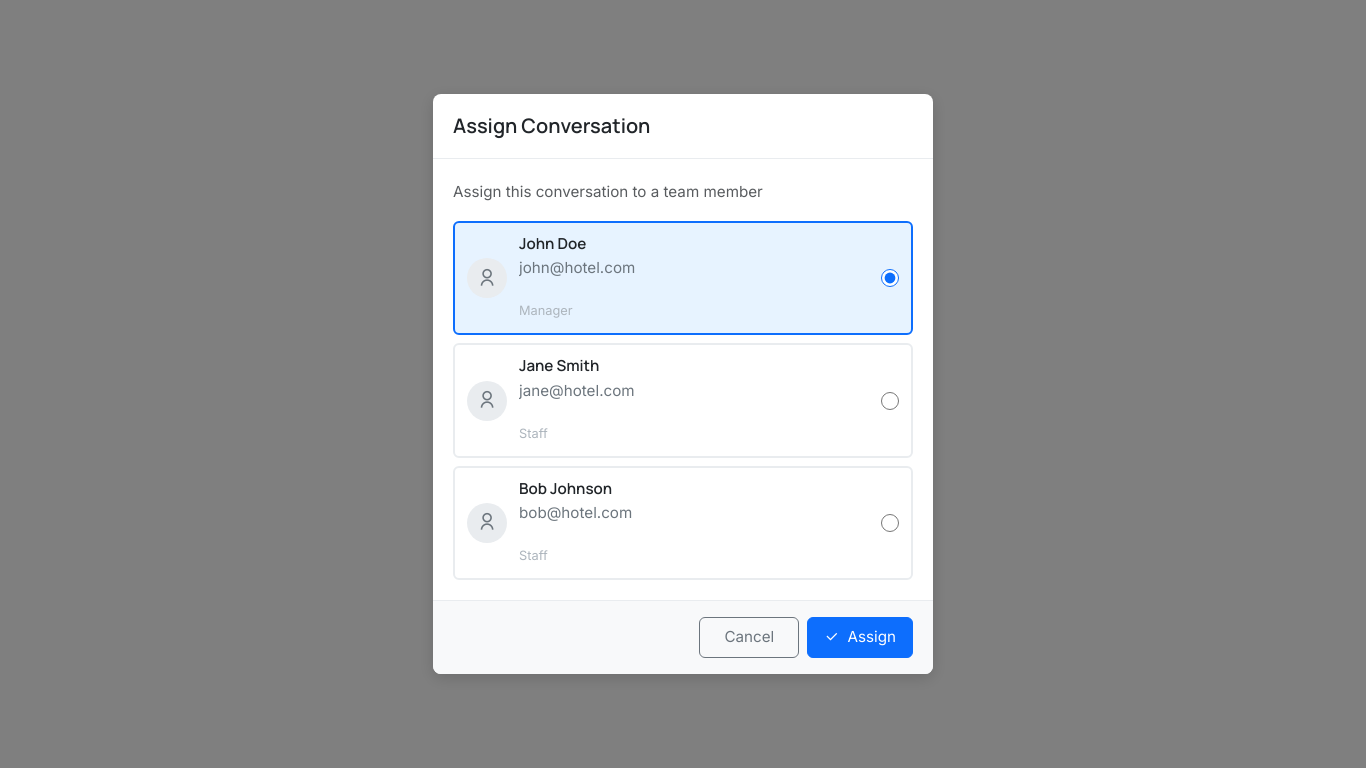
Scenario: ConversationAssignment › allows clicking on staff item to select
The image size is (1366, 768).
Click the heading "Jane Smith" at x=559, y=366, box [519,356,599,376]
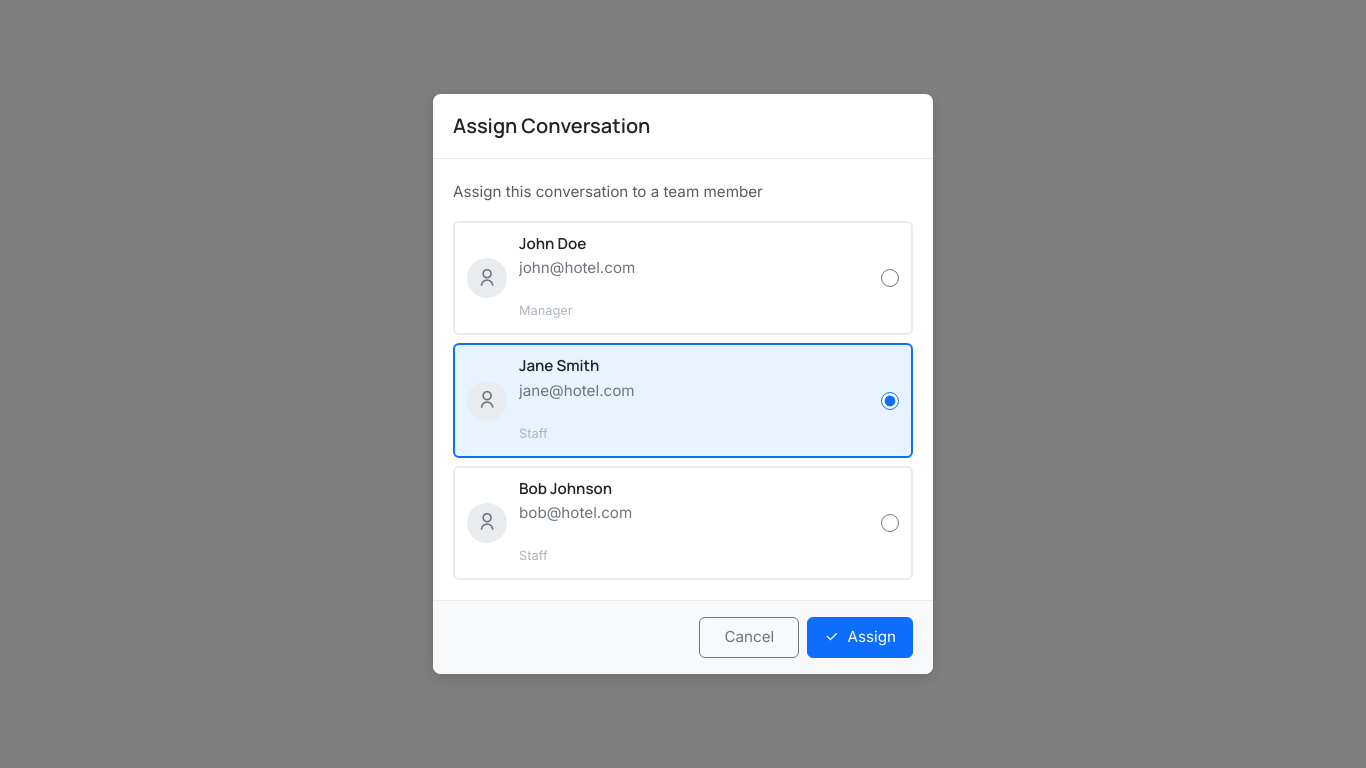
Check: the radio button in the row of "jane@hotel.com" is checked, box [881,392,899,410]
